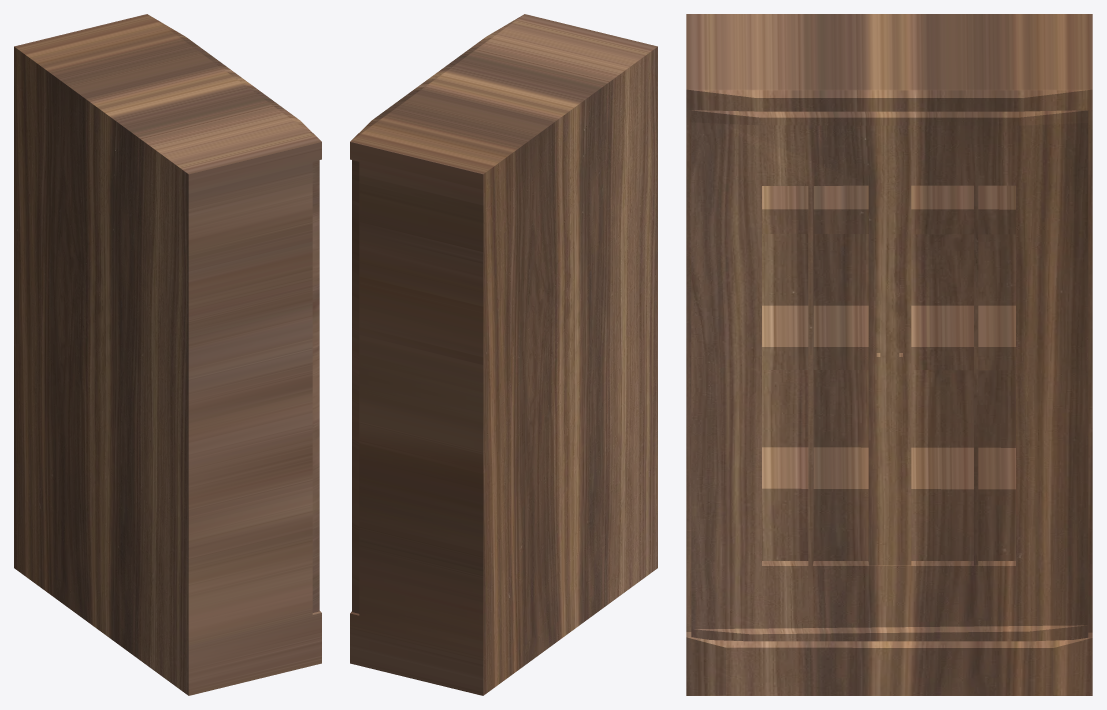
File: BookShelf.fbx
3 views of the same model, side by side, from view 1: azimuth 30°, elevation 25°; view 2: azimuth 150°, elevation 25°; view 3: azimuth 270°, elevation 25° (orthographic). The views are drawn at different scales.
Visible parts, largest first — view 1: pCube2, pCube3; view 2: pCube2, pCube3; view 3: pCube2, pCube3.
Boxes of the visible parts, box(x1,y1,x2,y2) form: pCube2: box(14, 14, 321, 695); pCube3: box(312, 160, 319, 612); pCube2: box(350, 14, 657, 695); pCube3: box(352, 160, 359, 613); pCube2: box(686, 14, 1092, 695); pCube3: box(691, 110, 1088, 641).
Size of the model in its own units: 1.57 by 5.5 by 3.34.
1 material, 1 textured.
